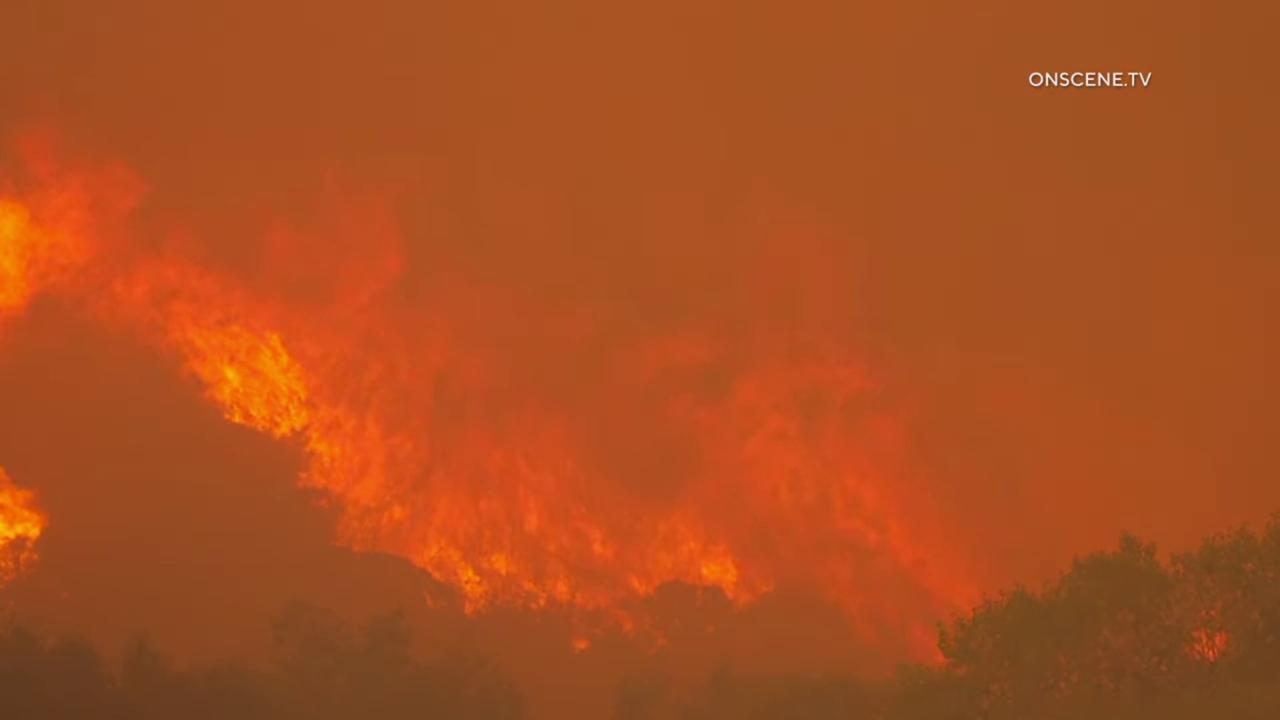fire: (0, 127, 981, 676), (0, 462, 54, 595), (1184, 625, 1228, 661)
smoke: (0, 0, 1280, 720)
